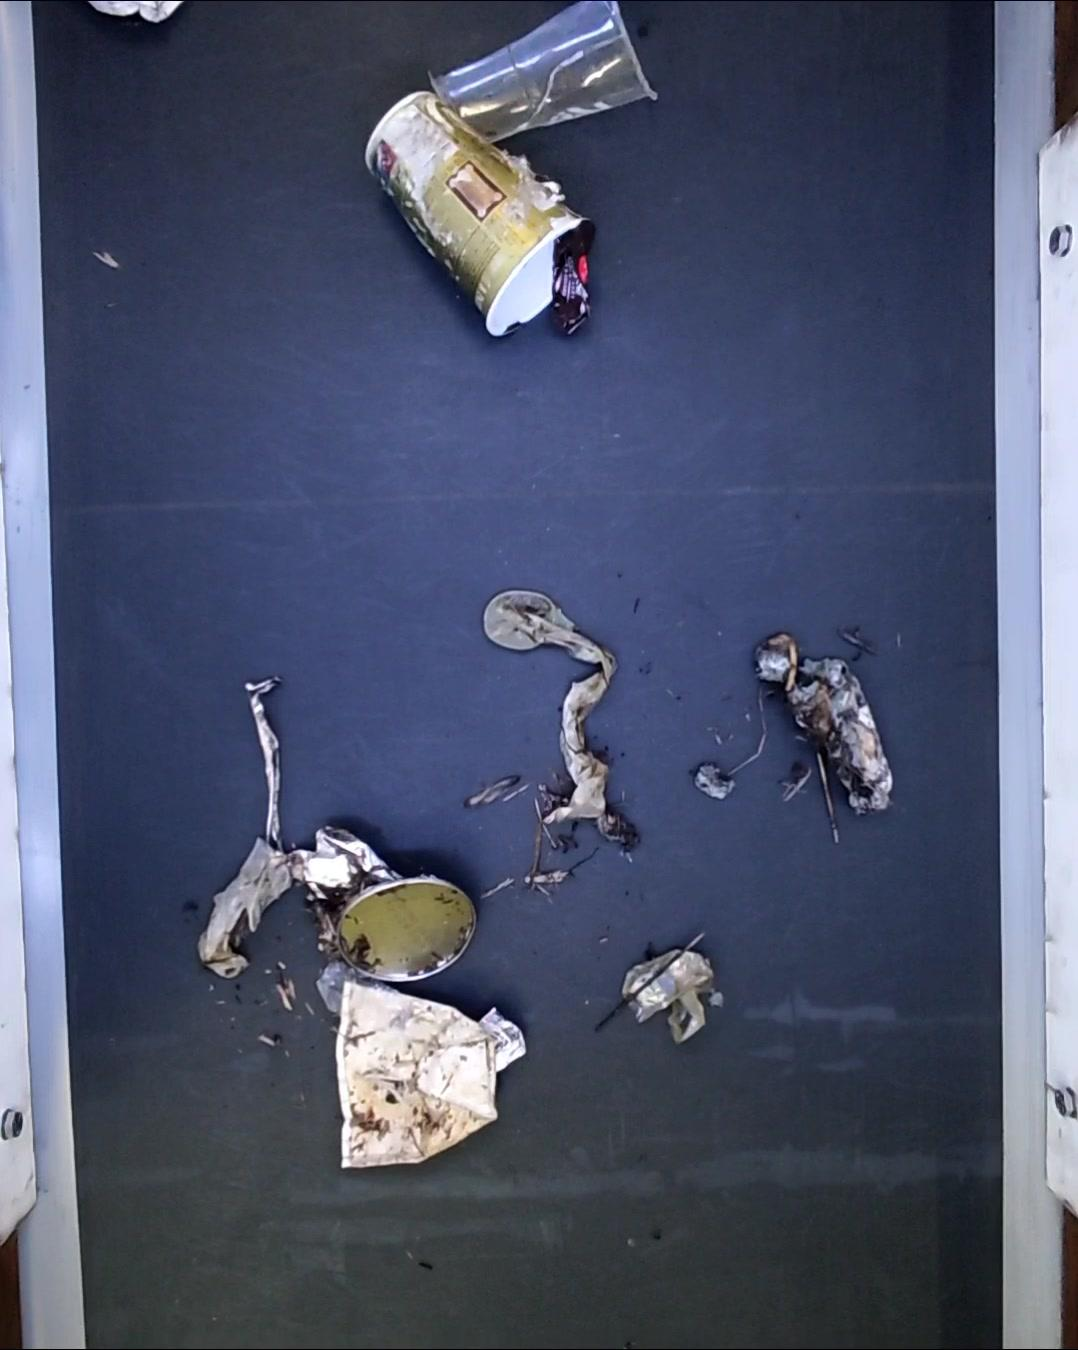Plastic folies of stukken daarvan 2.5- 50 cm: (206, 669, 296, 979), (623, 943, 715, 1043)
